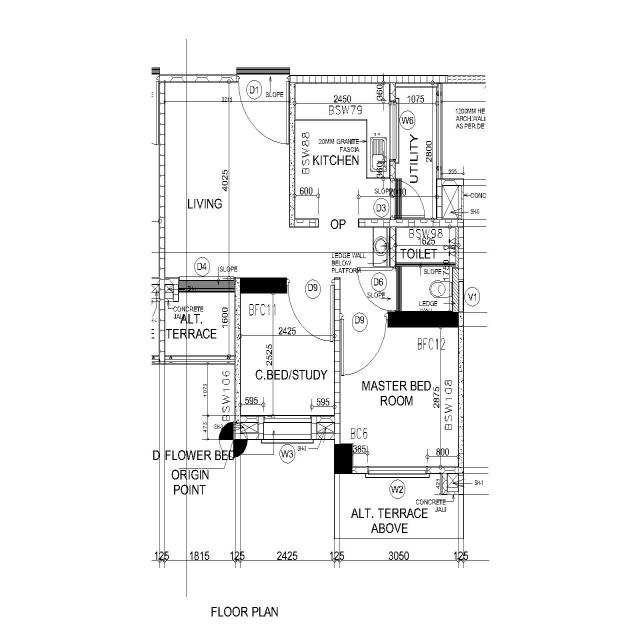Column: (385, 310, 460, 328), (240, 275, 288, 294), (332, 442, 353, 476)
Door: (287, 276, 337, 289), (235, 73, 292, 84), (388, 264, 398, 314), (340, 313, 390, 321), (388, 176, 396, 222)
Ventilator: (457, 277, 466, 314)
Window: (366, 464, 428, 476), (262, 431, 314, 445), (388, 98, 398, 163)
